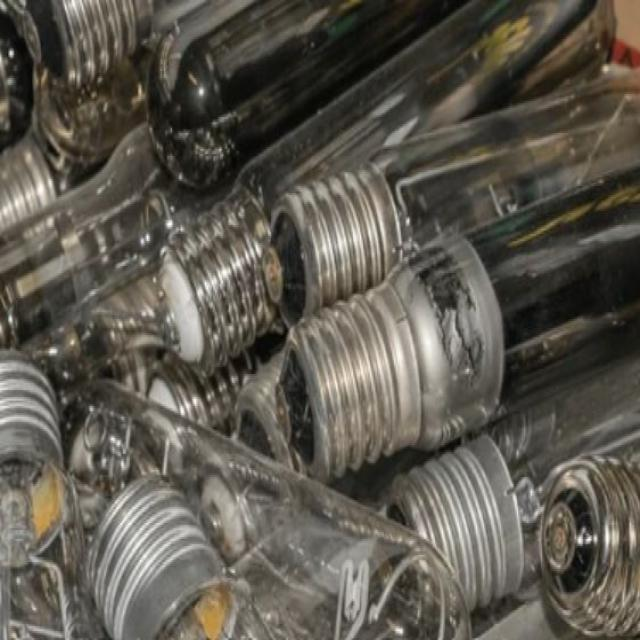electronic: (0, 0, 639, 638), (279, 229, 506, 480), (86, 470, 242, 638), (535, 451, 639, 638), (0, 346, 67, 569)
